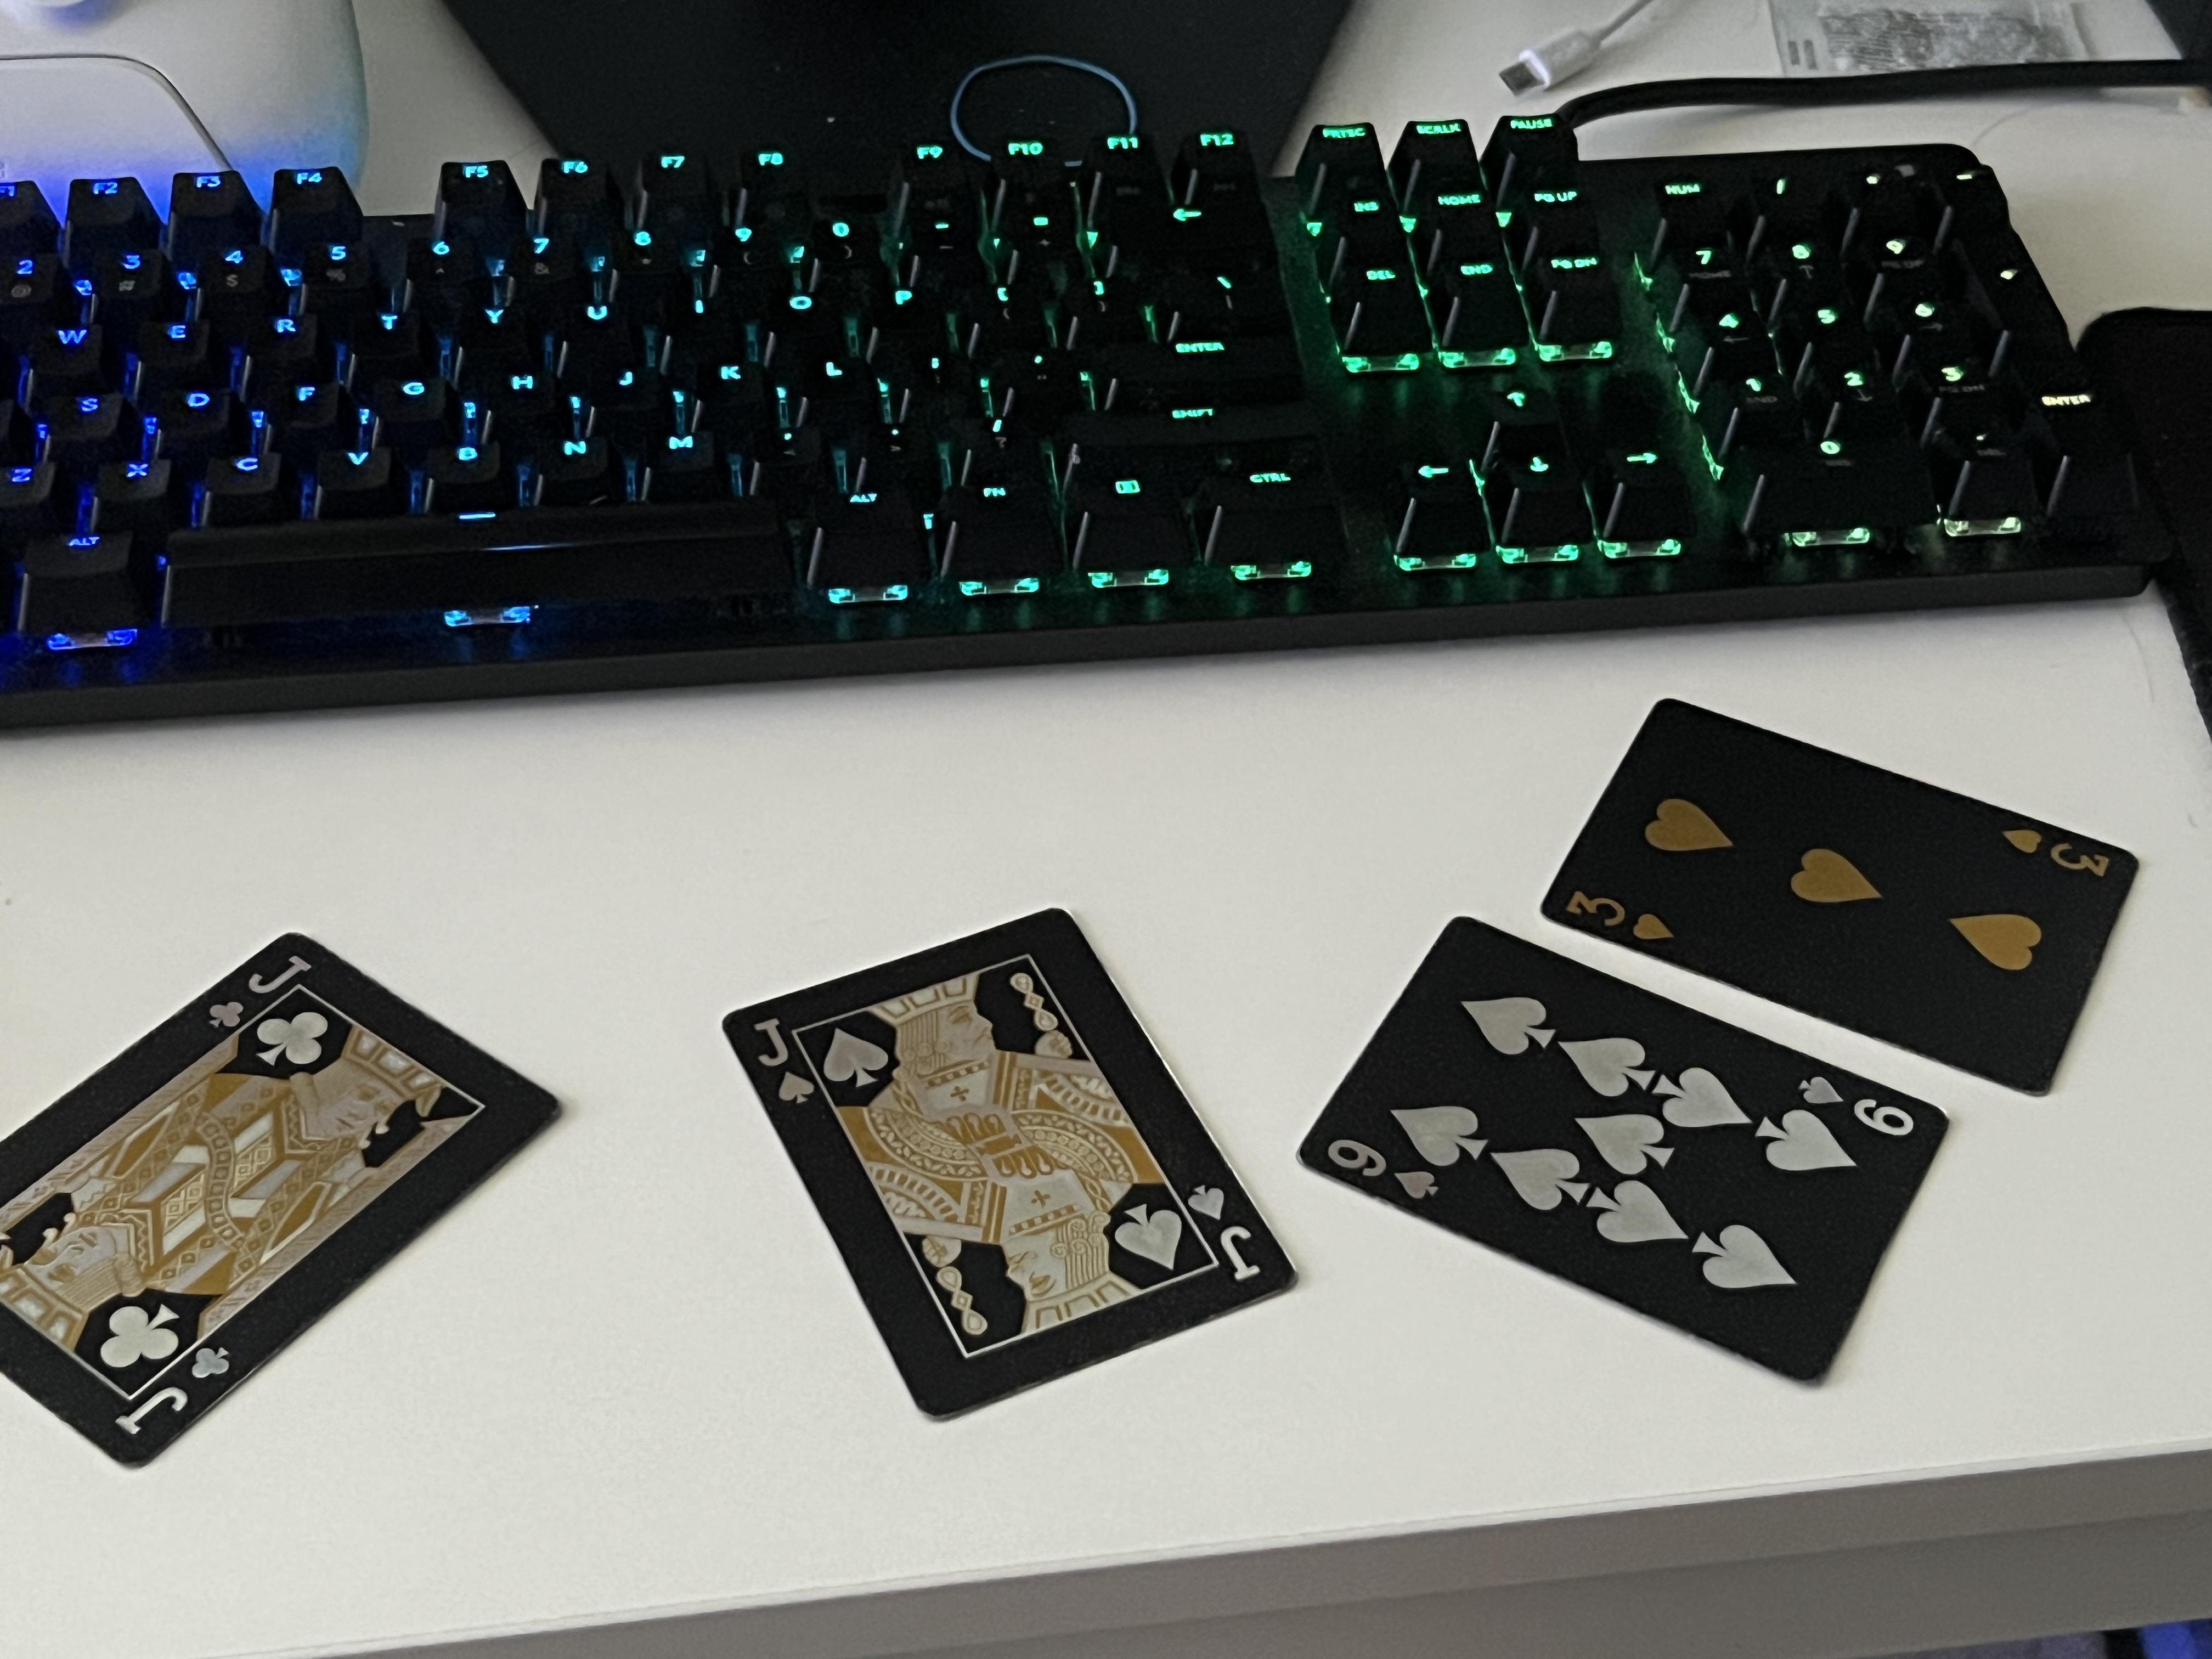3H: (1564, 850, 1688, 957), (2000, 807, 2134, 884)
9S: (1799, 1042, 1926, 1157), (1322, 1127, 1461, 1215)
JC: (105, 1342, 242, 1446), (178, 941, 320, 1040)
JS: (1177, 1157, 1273, 1298), (726, 1012, 826, 1122)
